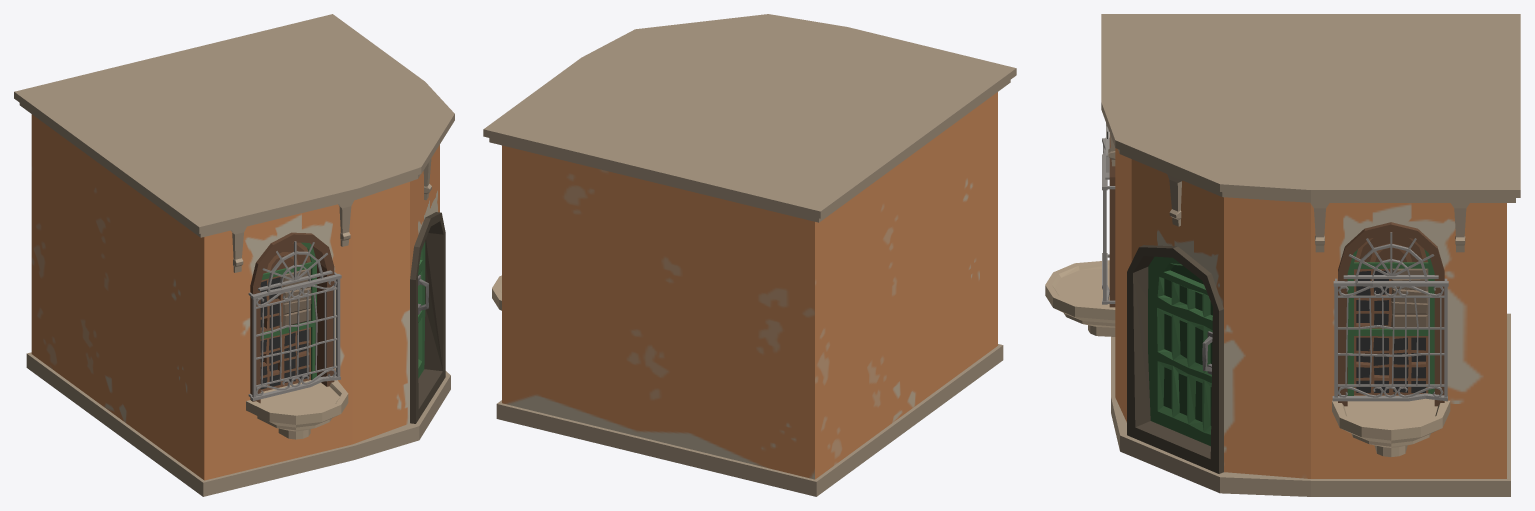
The model's file is SM_Bld_Cuba_Room_03.glb.
3 renders of one model, left to right at view 1: azimuth 30°, elevation 25°; view 2: azimuth 150°, elevation 25°; view 3: azimuth 270°, elevation 25°, orthographic. The views are drawn at different scales.
Parts seen in each view (by area): view 1: SM_Bld_Cuba_Room_03_part00; view 2: SM_Bld_Cuba_Room_03_part00; view 3: SM_Bld_Cuba_Room_03_part00.
Boxes of the visible parts, left/top/right/bottom form: SM_Bld_Cuba_Room_03_part00: left=14, top=14, right=454, bottom=496; SM_Bld_Cuba_Room_03_part00: left=483, top=14, right=1016, bottom=496; SM_Bld_Cuba_Room_03_part00: left=1045, top=14, right=1520, bottom=496.
Size of the model in its own units: 4.57 by 3.33 by 4.61.
1 material, 1 textured.
